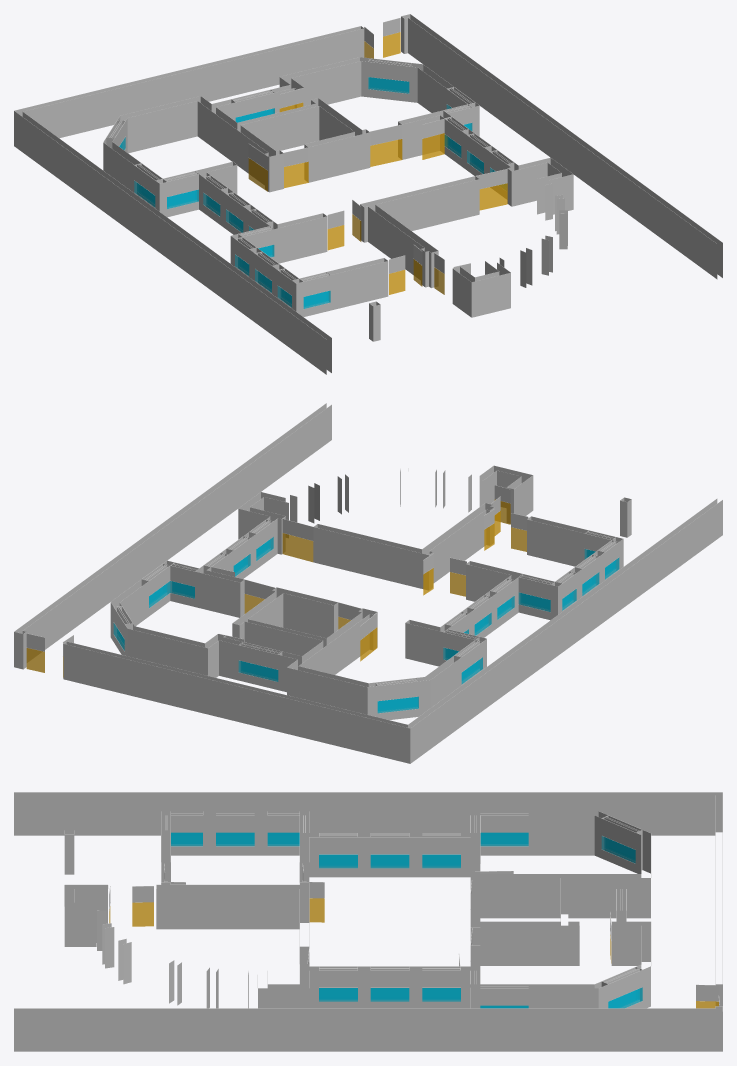
File: e311e5a7-39d0-406b-ad12-1937480efc36_no_roof.glb
The picture shows the model from 3 angles, top to bottom: view 1: azimuth 30°, elevation 25°; view 2: azimuth 150°, elevation 25°; view 3: azimuth 270°, elevation 25°; orthographic projection. The views are drawn at different scales.
Visible parts, largest first — view 1: walls, doors, windows; view 2: walls, windows, doors; view 3: walls, windows, doors.
Part boxes in pixels (x1,y1,x2,y2): walls: (14, 14, 722, 374); doors: (248, 32, 507, 294); windows: (119, 77, 506, 308); walls: (14, 403, 722, 763); windows: (113, 537, 619, 713); doors: (26, 499, 526, 677); walls: (14, 792, 722, 1051); windows: (171, 832, 642, 1008); doors: (109, 898, 718, 1008).
Size of the model in its own units: 40.91 by 3.5 by 55.87.
